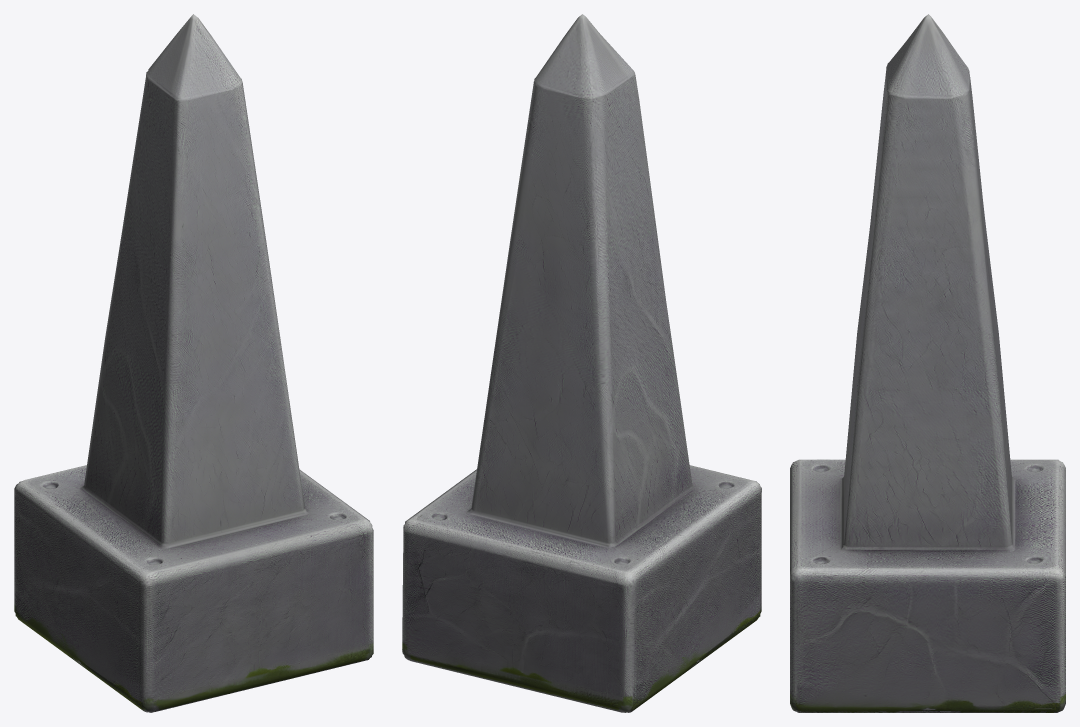
Rendered from grave_small_obelisk.glb.
3 renders of one model, left to right at view 1: azimuth 30°, elevation 25°; view 2: azimuth 150°, elevation 25°; view 3: azimuth 270°, elevation 25°, orthographic. The views are drawn at different scales.
Size of the model in its own units: 0.7762 by 2 by 0.7762.
1 material, 1 textured.
